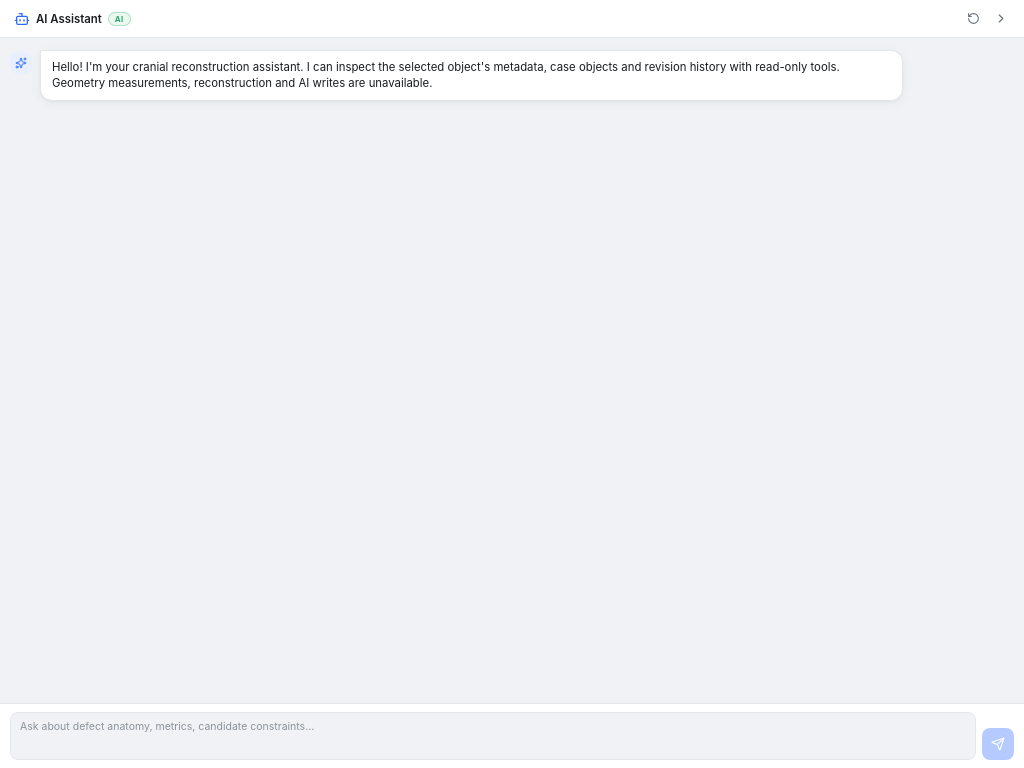
Test case: chat conversation scope guards › suppresses late replies after reset and starts a fresh conversation
Check: the text "cranial reconstruction assistant" is shown, box [52, 60, 843, 90]
In the text box named "Message for AI assistant": (493, 736) [10, 712, 976, 760], type "Inspect skull"
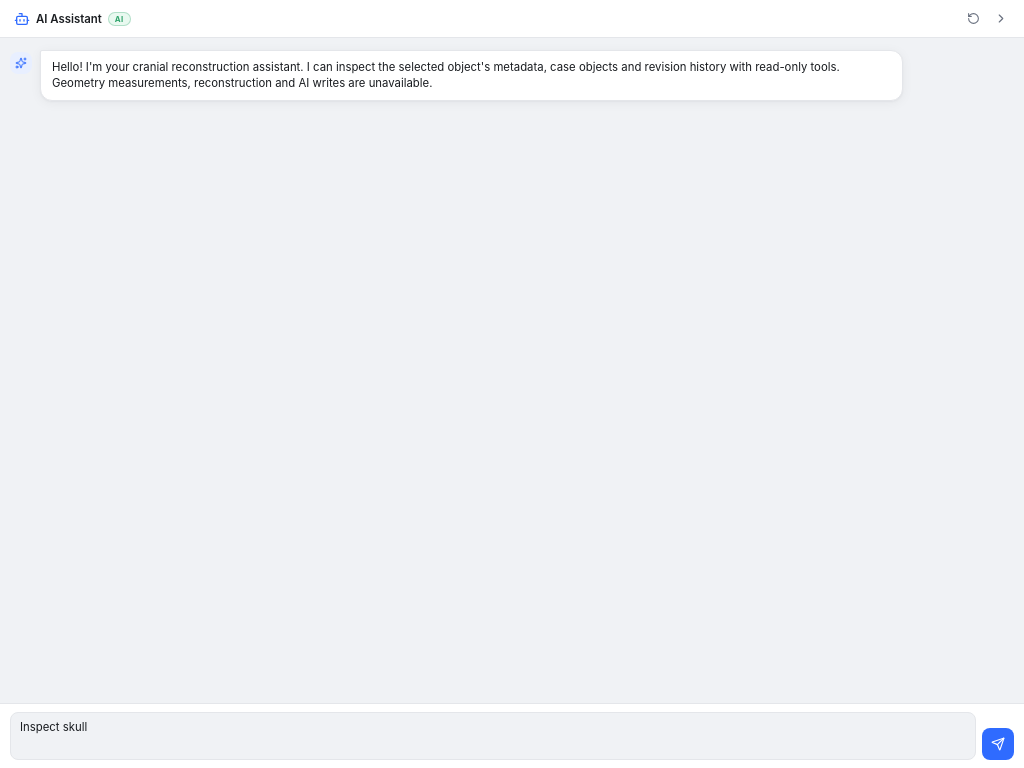
Click the button named "Send message to AI assistant": (998, 744) [982, 728, 1014, 760]
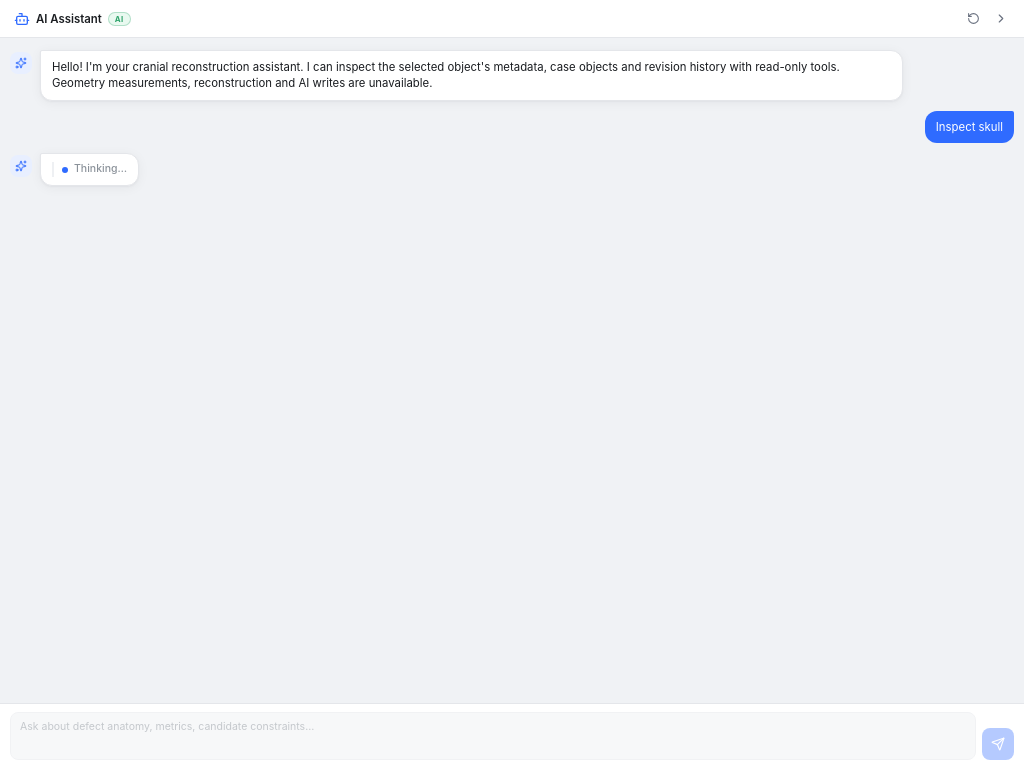
Click the button named "Reset conversation": (973, 18) [960, 6, 986, 32]
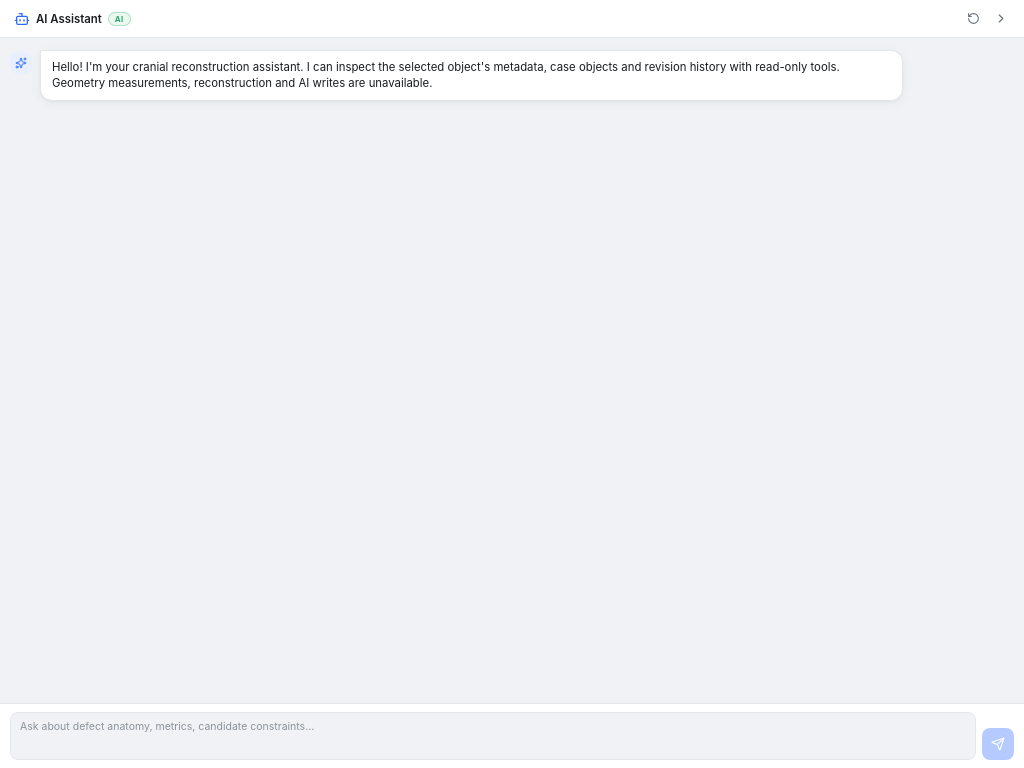
Check: the text "cranial reconstruction assistant" is shown, box [52, 60, 843, 90]
Check: the text "Inspect skull" is gone
